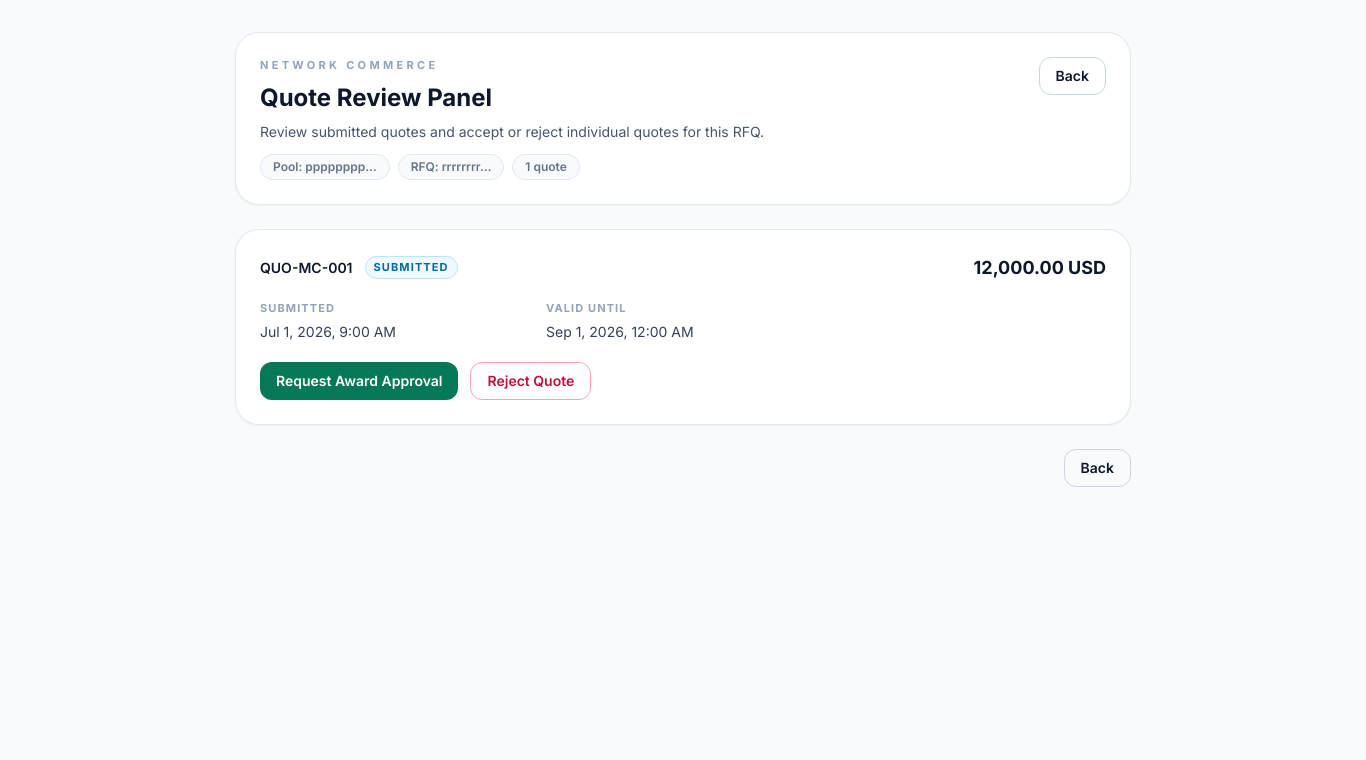
MC-FE-05: successful award request shows pending approval state › shows Award Approval Pending card after successful request
Step 1. Click the button with aria-label "request award approval for quote quo-mc-001" → click(359, 380), box left=260, top=362, right=458, bottom=400
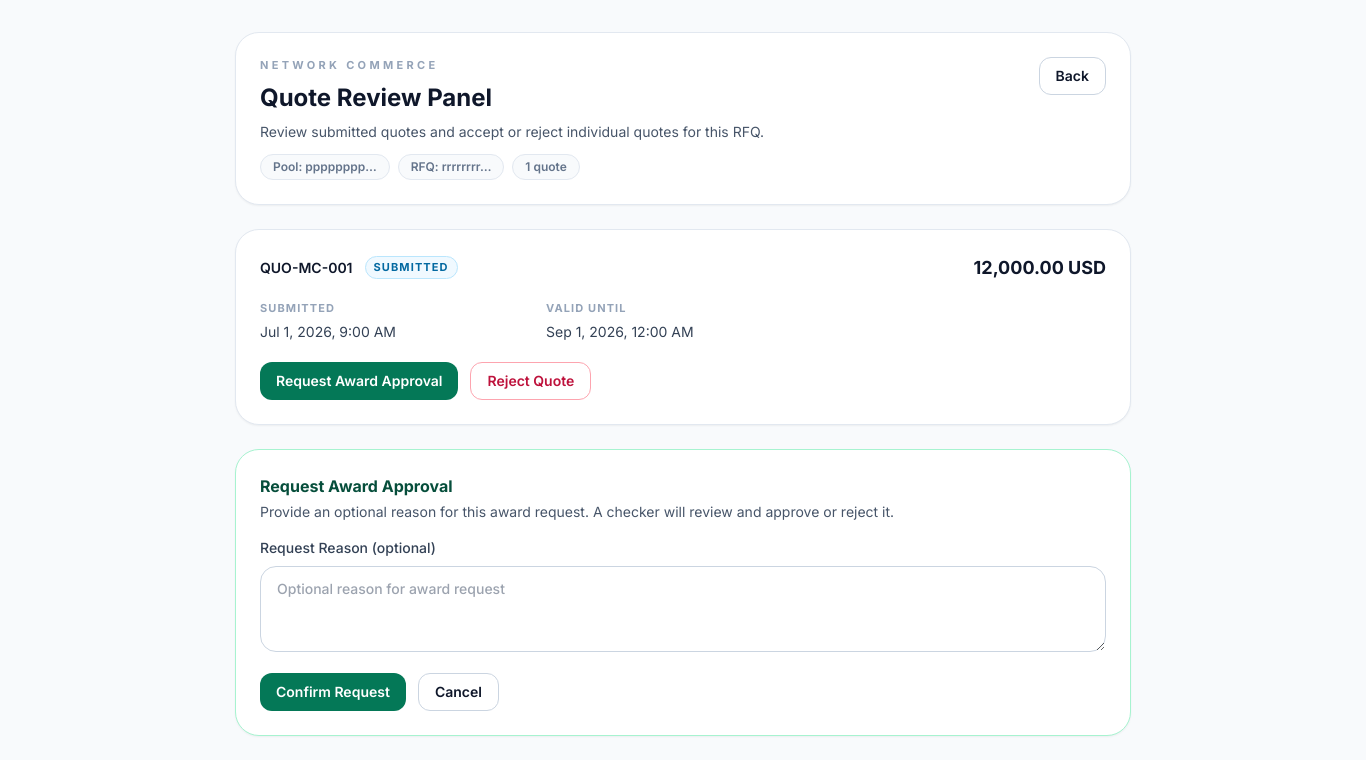
Step 2. Click the button "Confirm Request" → click(333, 692), box left=260, top=672, right=406, bottom=710
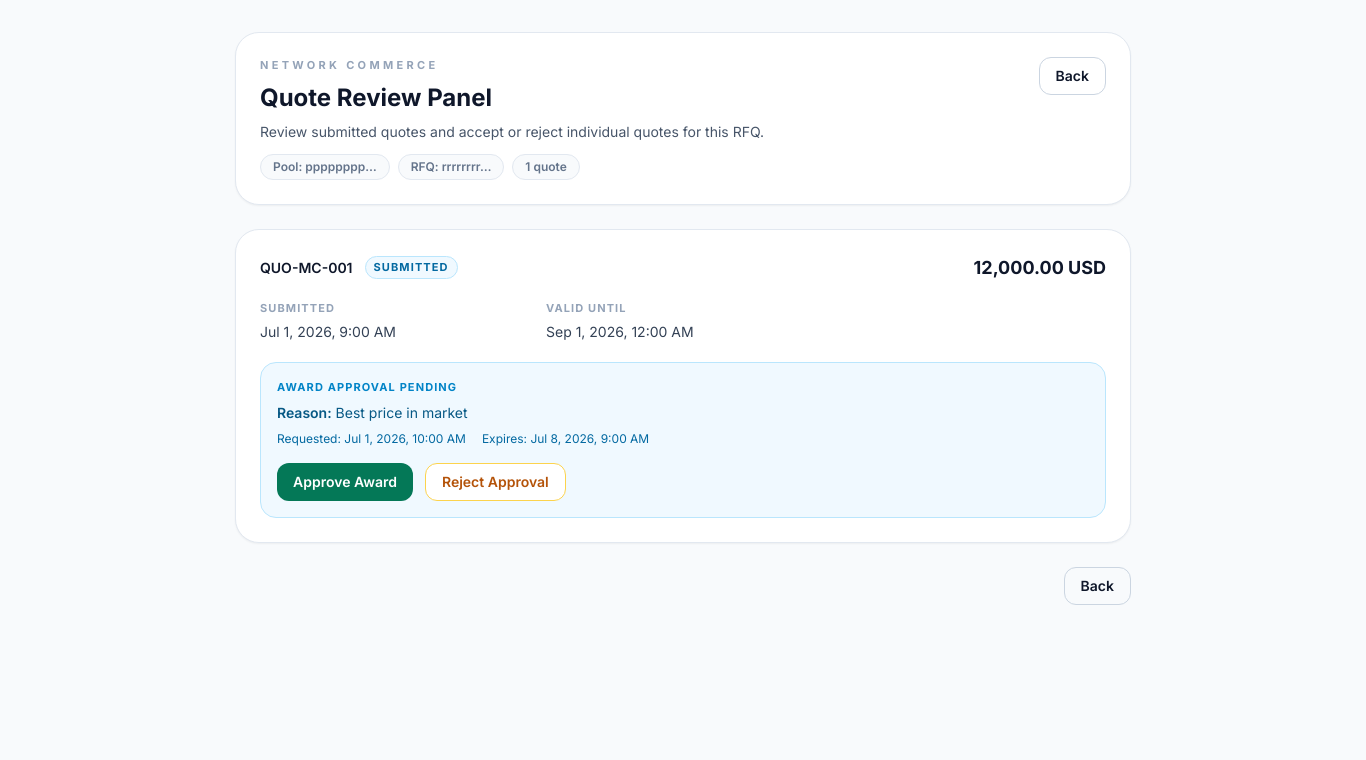
Now the text "Award Approval Pending" is shown, box left=277, top=380, right=457, bottom=394
